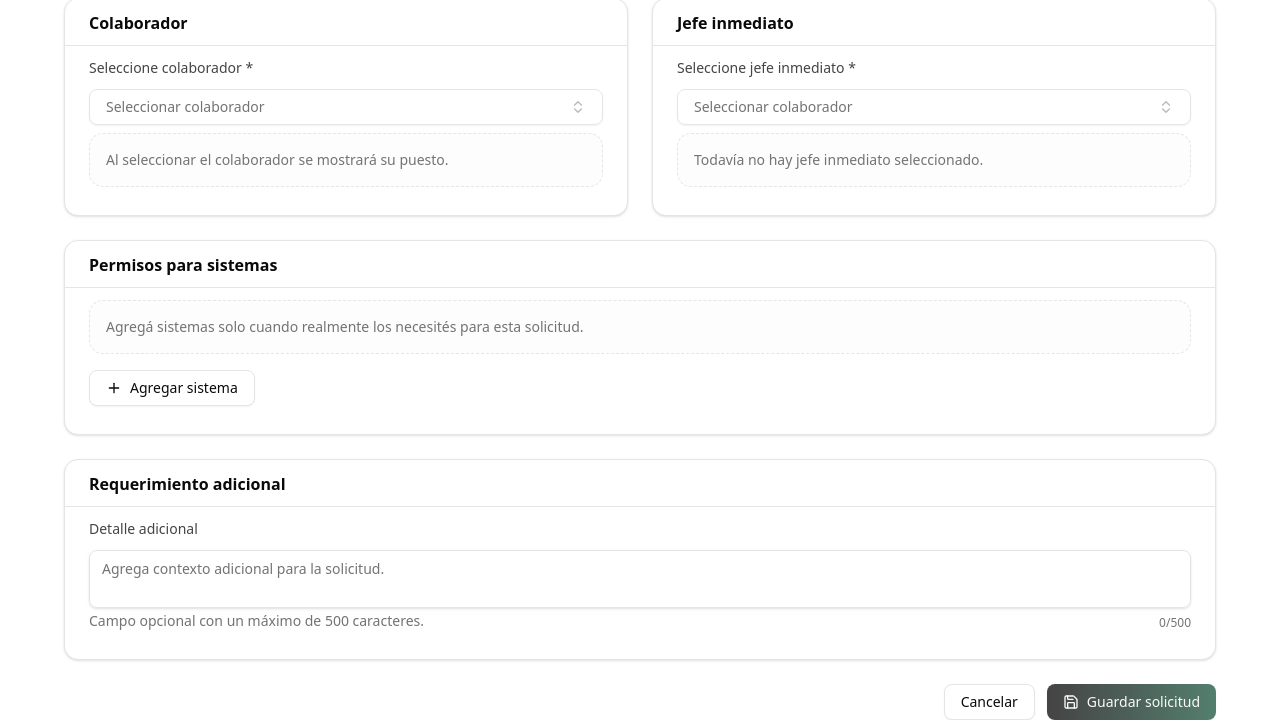
MiAccesoNewRequestPage › deshabilita el select de sistema cuando falta listar_sistemas_acceso
(page scrolled)
Click the button "Agregar sistema" at {"x": 172, "y": 388}, box x1=89 y1=370 x2=255 y2=406
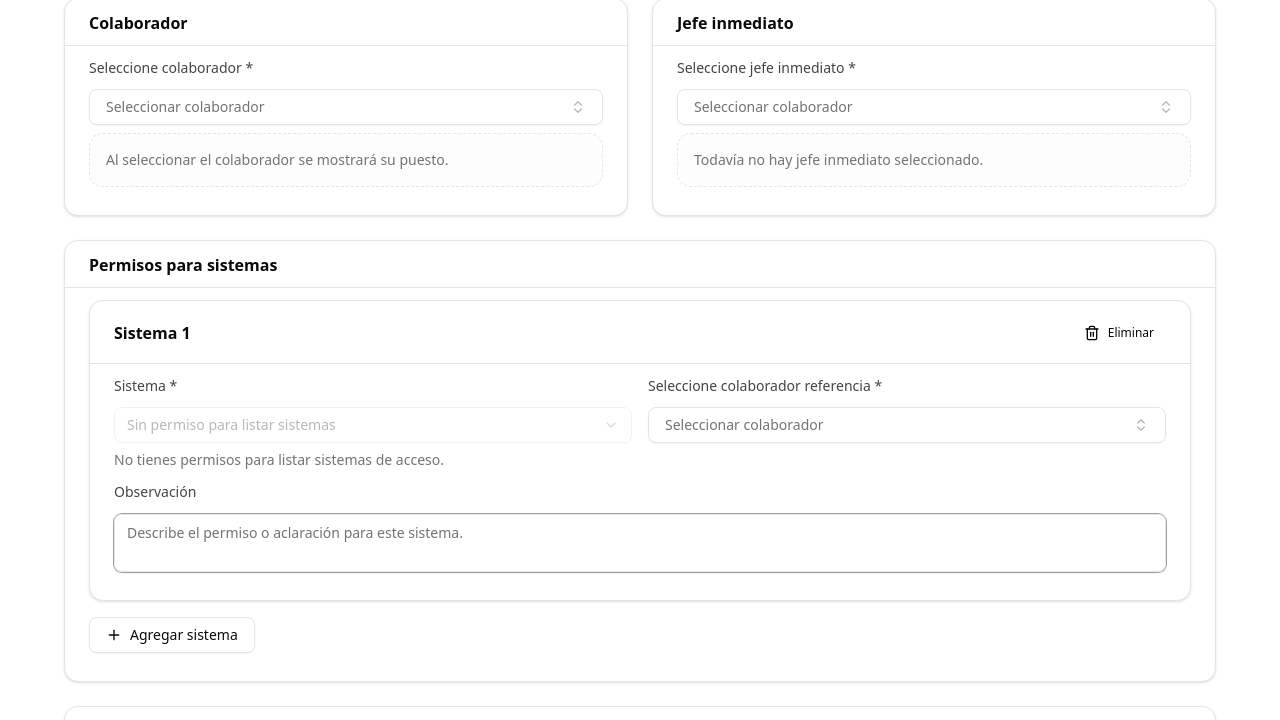
Now the dropdown labelled "Sin permiso para listar sistemas" is disabled, box x1=114 y1=407 x2=632 y2=443
Now the dropdown labelled "Sin permiso para listar sistemas" is shown, box x1=114 y1=407 x2=632 y2=443
Now the text "No tienes permisos para listar sistemas de acceso." is shown, box x1=114 y1=450 x2=444 y2=469
